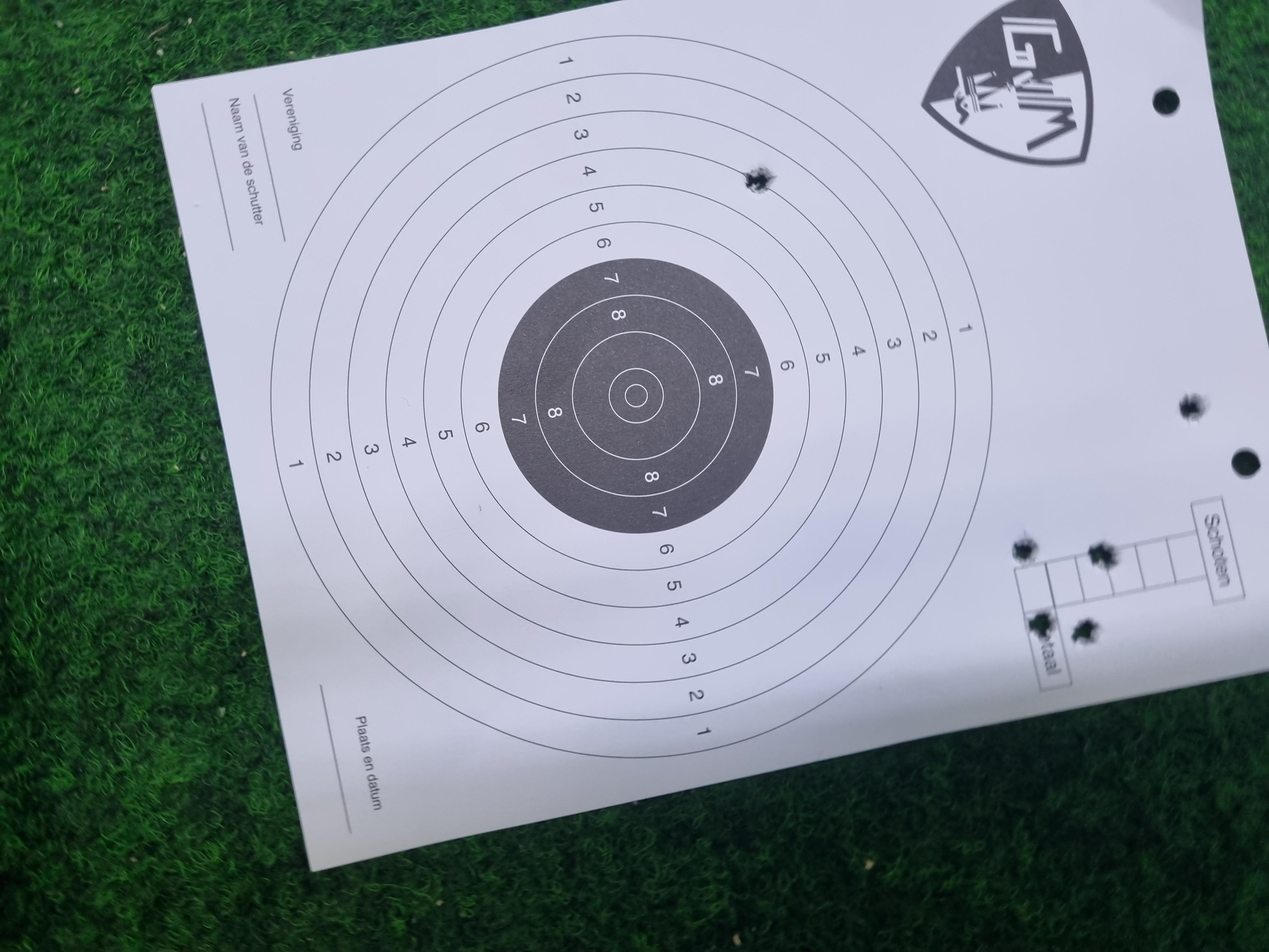hole: (413, 771, 456, 795), (508, 816, 549, 841), (1010, 558, 1047, 583), (407, 803, 445, 826), (516, 759, 554, 780), (706, 884, 744, 905)
